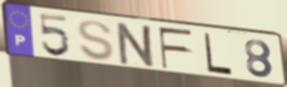5: (39, 12, 73, 59)
8: (244, 39, 275, 79)
F: (157, 26, 196, 71)
L: (203, 31, 234, 77)
N: (116, 21, 158, 70)
S: (76, 19, 116, 62)
